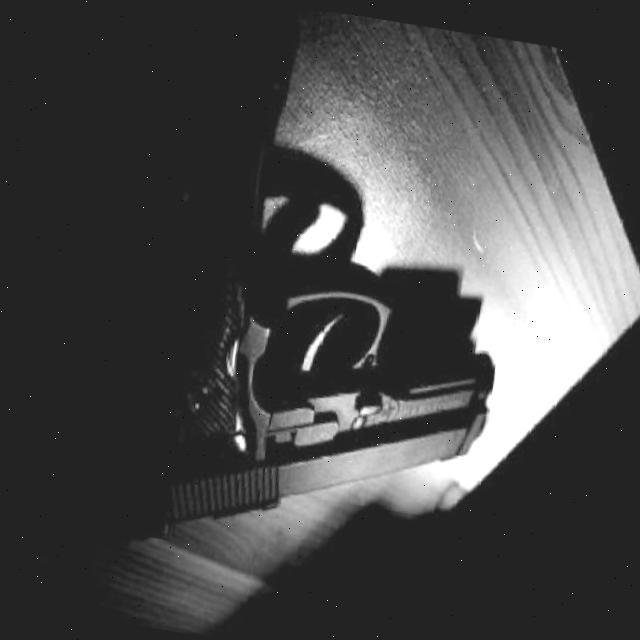gun: (70, 87, 524, 619)
